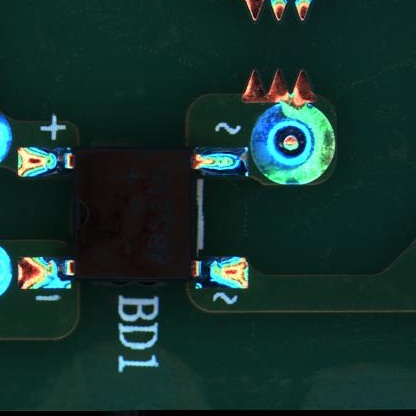spot: (249, 102, 335, 185)
